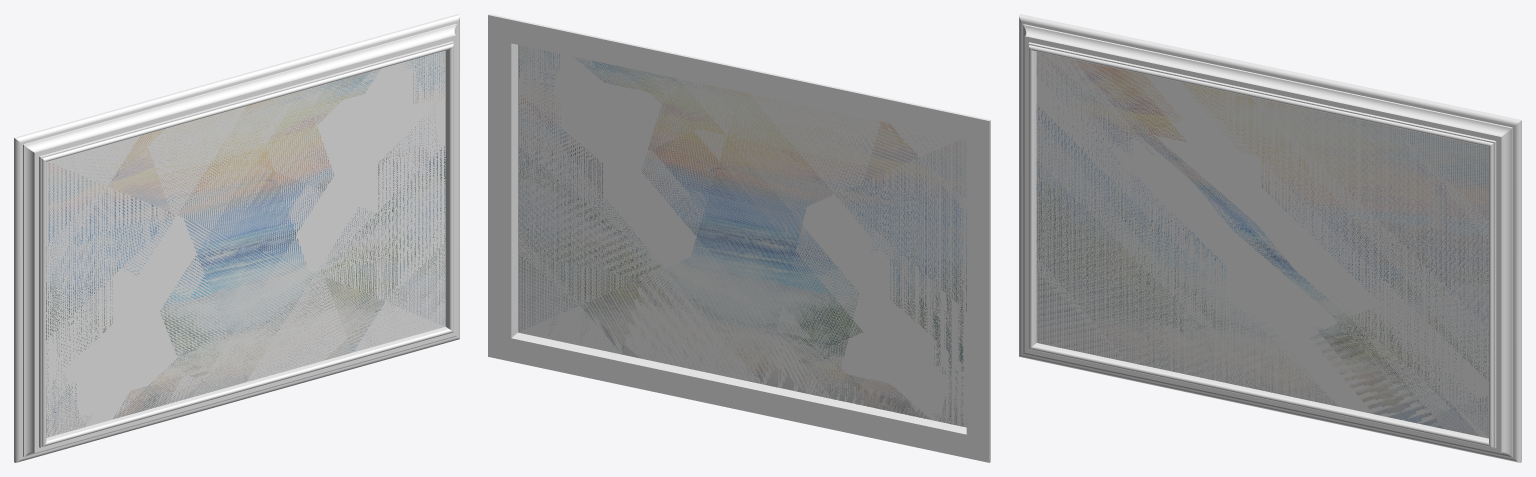
The model's file is wallPic.dae.
3 renders of one model, left to right at view 1: azimuth 30°, elevation 25°; view 2: azimuth 150°, elevation 25°; view 3: azimuth 330°, elevation 25°, orthographic. The views are drawn at different scales.
Parts seen in each view (by area): view 1: Component_1 (×5); view 2: Component_1 (×3); view 3: Component_1 (×5).
Boxes of the visible parts, <box> form: Component_1 (×5): <box>14,14,459,462</box>; Component_1 (×3): <box>488,14,990,462</box>; Component_1 (×5): <box>1019,14,1521,462</box>.
Size of the model in its own units: 84 by 8.4 by 56.54.
